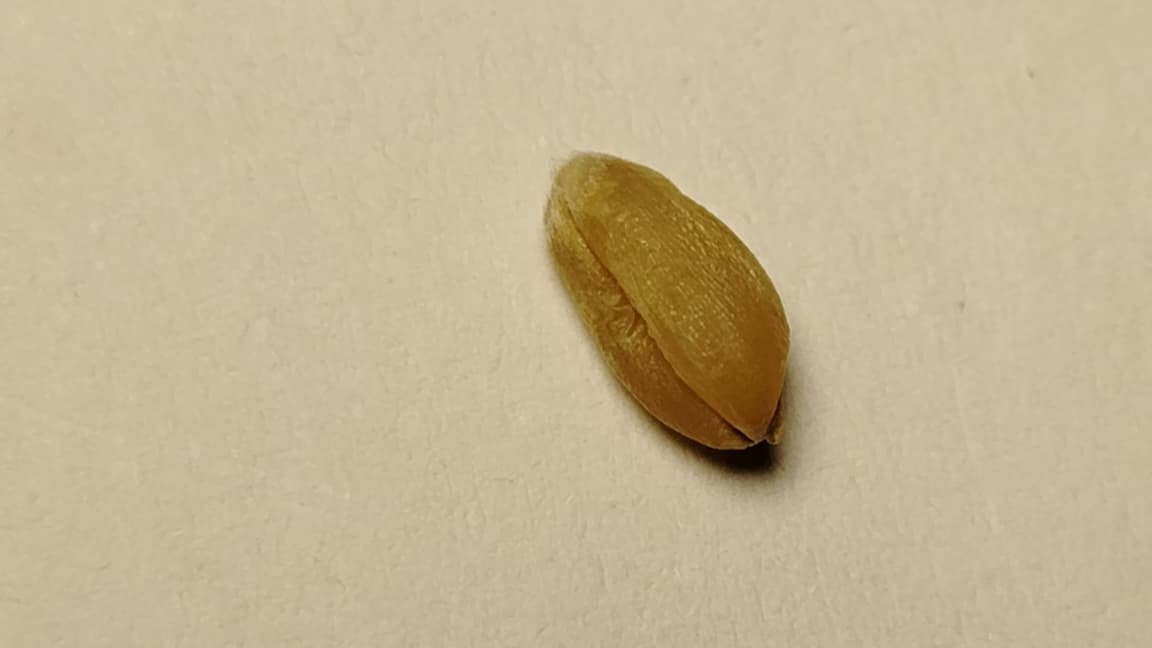healthy: (545, 152, 789, 449)
